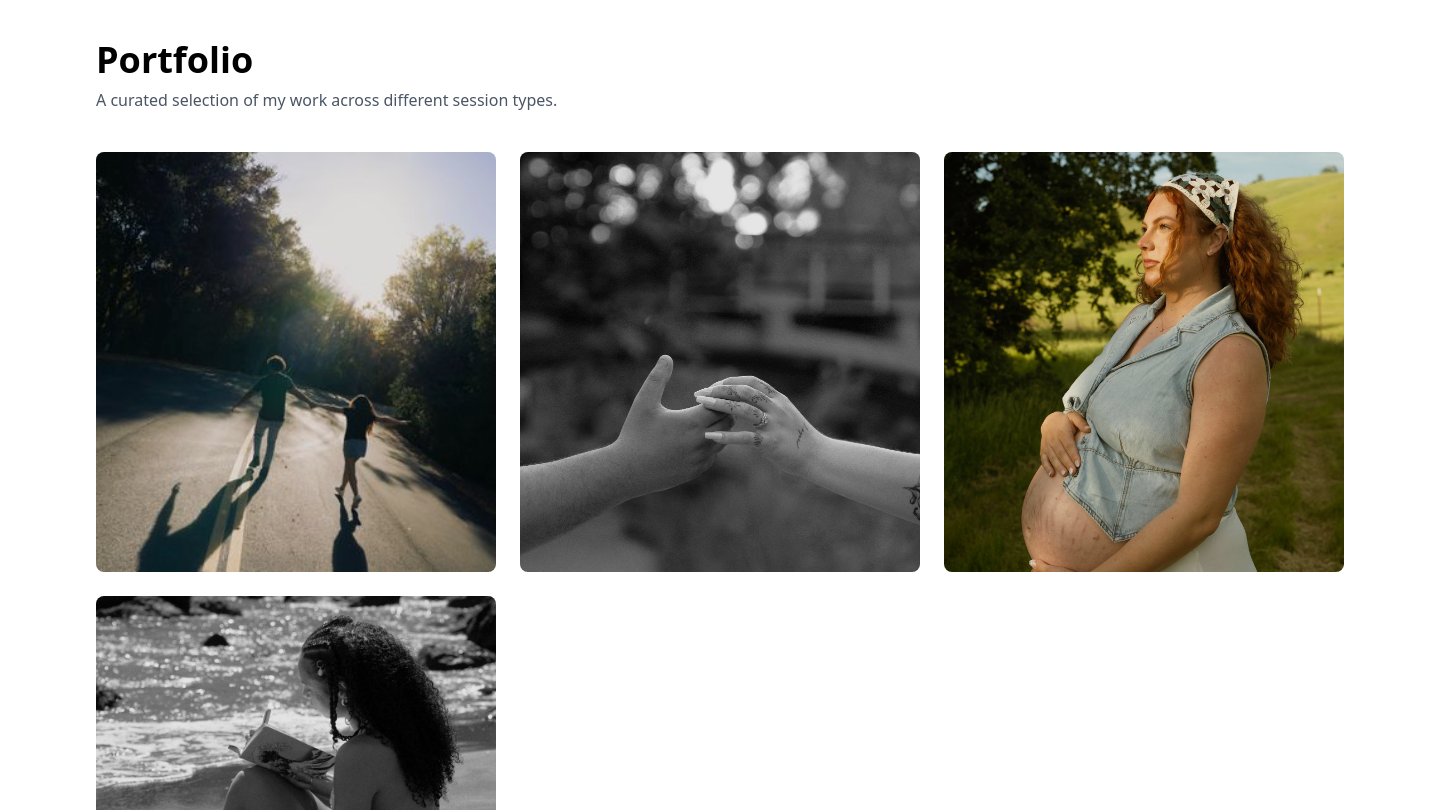
Test: Portfolio › closes lightbox when Escape key is pressed
Click the 1st button "Couples & Engagements" at x=296, y=362, box x1=96 y1=152 x2=496 y2=572
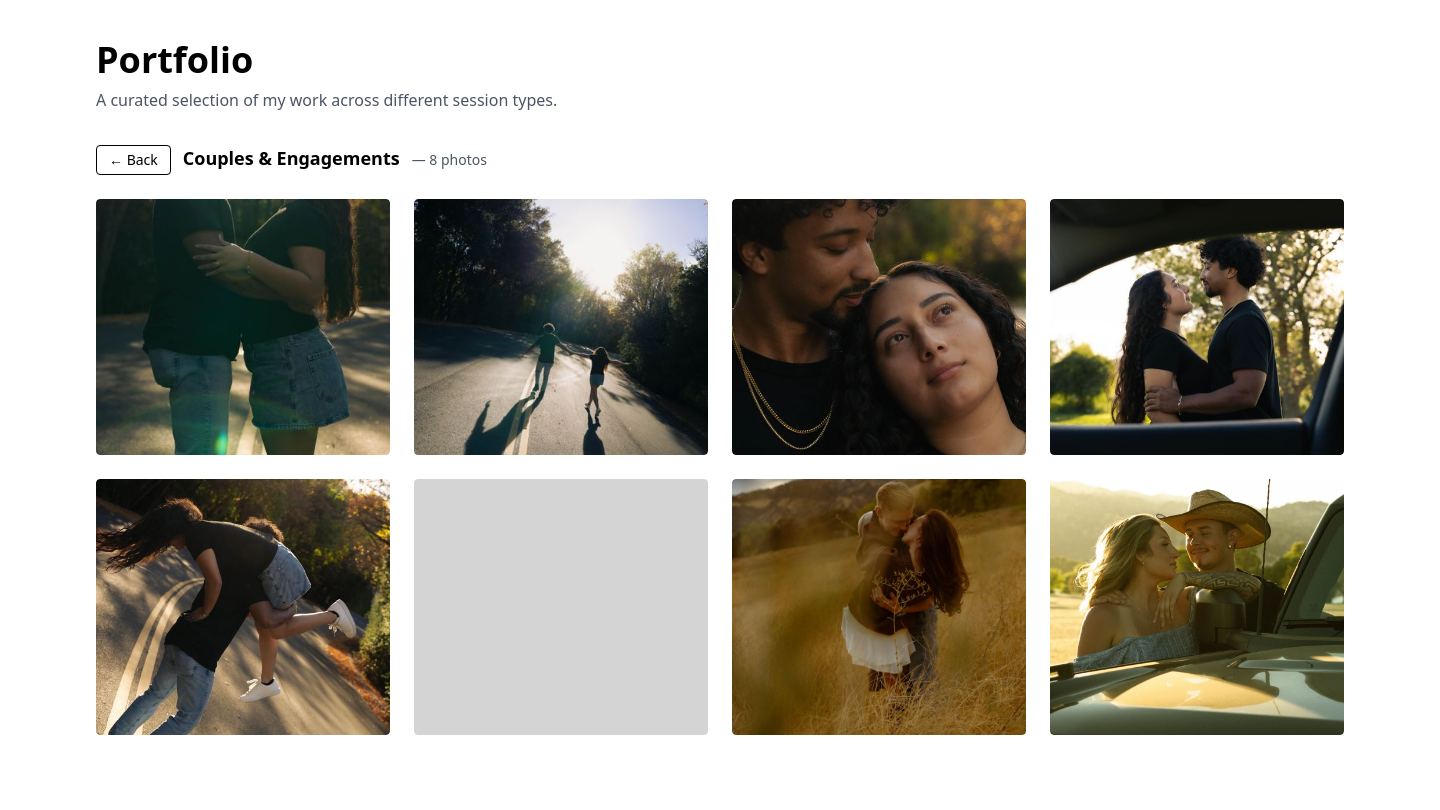
Click the 2nd button at x=243, y=327, box x1=96 y1=199 x2=390 y2=455
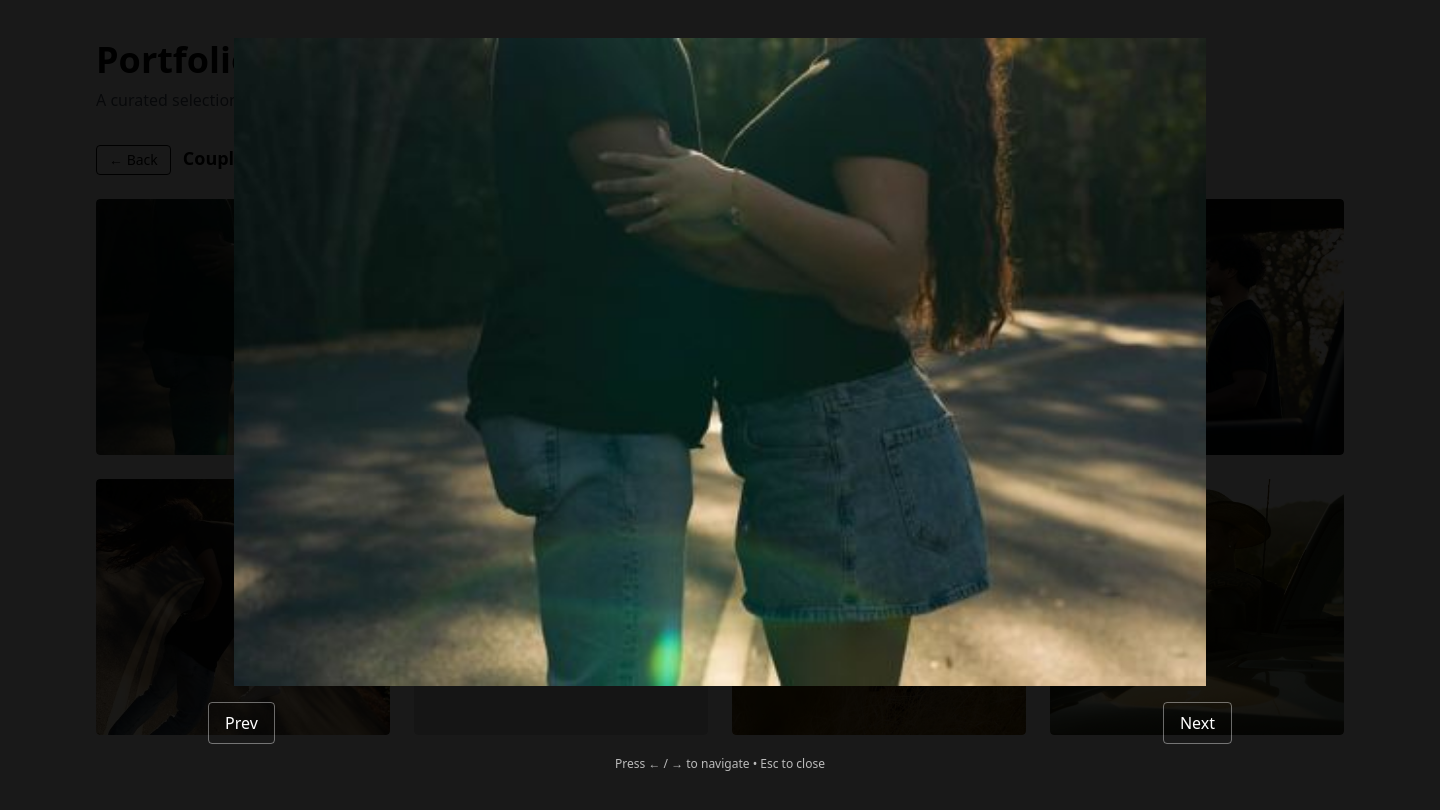
Check: the text "Press ← / → to navigate • Esc to close" is shown, box x1=615 y1=755 x2=825 y2=772
Press Escape
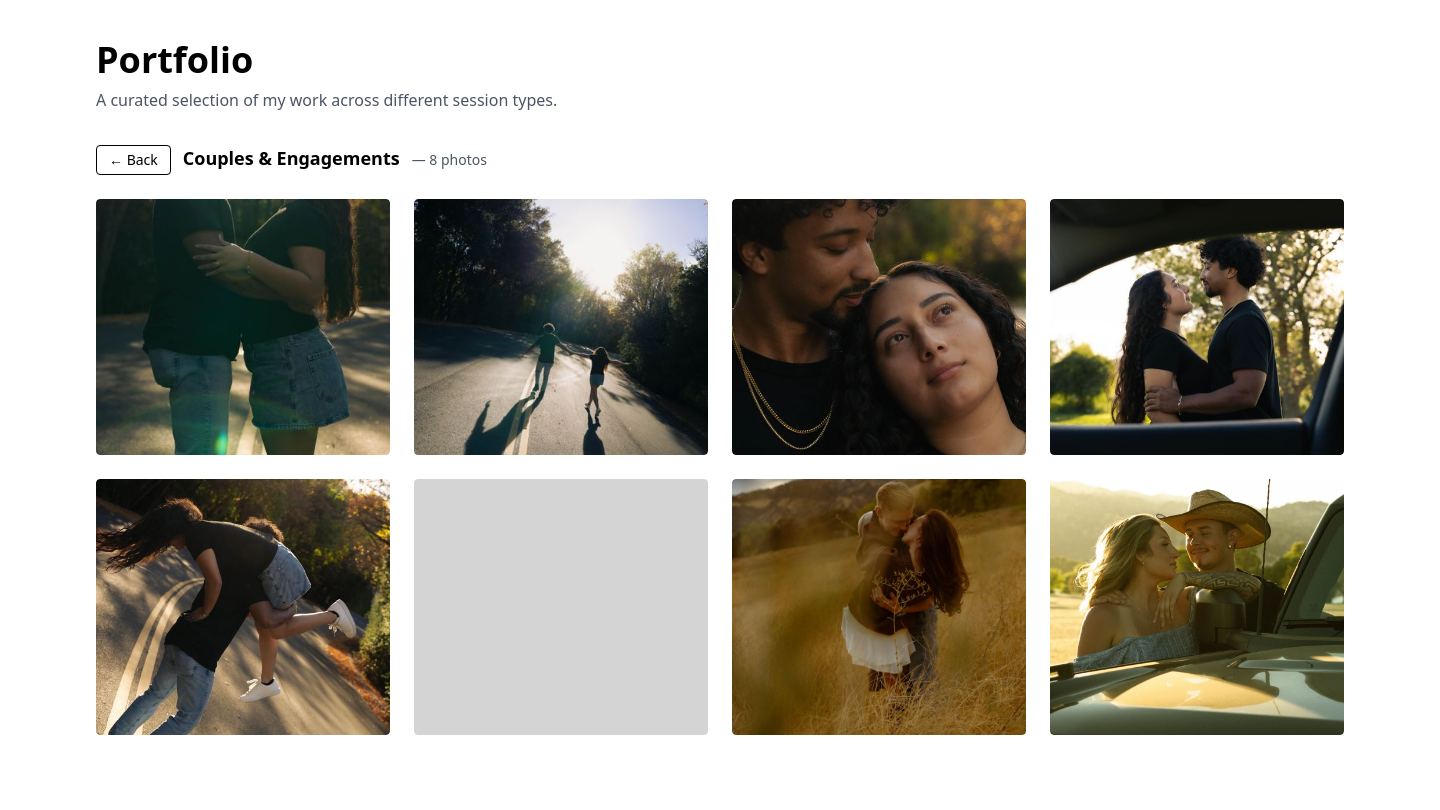
Check: the text "Press ← / → to navigate" is gone
